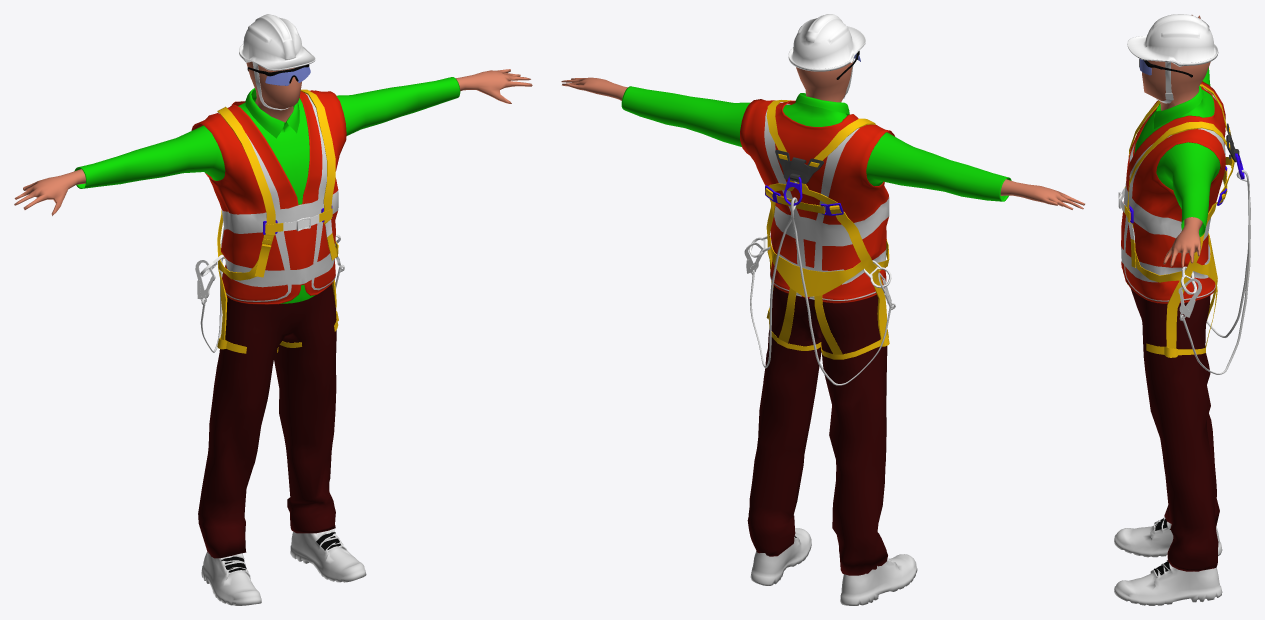
The model's file is Mannequin_05.fbx.
3 renders of one model, left to right at view 1: azimuth 30°, elevation 25°; view 2: azimuth 150°, elevation 25°; view 3: azimuth 270°, elevation 25°, orthographic.
Parts seen in each view (by area): view 1: Mannequin_geo, Jacket_geo, Harness_geo, Boots_geo, Helmet_geo, Safety Goggles_geo; view 2: Mannequin_geo, Jacket_geo, Harness_geo, Boots_geo, Helmet_geo, Rope; view 3: Mannequin_geo, Jacket_geo, Boots_geo, Harness_geo, Helmet_geo, Rope, Lanyard._01, Safety Goggles_geo, Helmet_geo.001.
Boxes of the visible parts, x1,y1,x2,y2 form: Mannequin_geo: [14, 61, 532, 558]; Jacket_geo: [191, 90, 346, 304]; Harness_geo: [217, 89, 338, 353]; Boots_geo: [201, 528, 366, 605]; Helmet_geo: [239, 14, 315, 70]; Safety Goggles_geo: [247, 64, 310, 85]; Mannequin_geo: [561, 61, 1084, 575]; Jacket_geo: [740, 99, 895, 303]; Harness_geo: [765, 100, 889, 359]; Boots_geo: [750, 528, 917, 605]; Helmet_geo: [788, 14, 865, 71]; Rope: [750, 197, 895, 385]; Mannequin_geo: [1127, 15, 1220, 571]; Jacket_geo: [1121, 81, 1225, 303]; Boots_geo: [1114, 517, 1222, 605]; Harness_geo: [1124, 84, 1244, 357]; Helmet_geo: [1127, 14, 1218, 66]; Rope: [1179, 170, 1250, 374]; Lanyard._01: [1178, 278, 1201, 318]; Safety Goggles_geo: [1139, 58, 1192, 77]; Helmet_geo.001: [1156, 62, 1173, 103].
Bounding box in the file's own units: 177 × 182 × 40.37.
